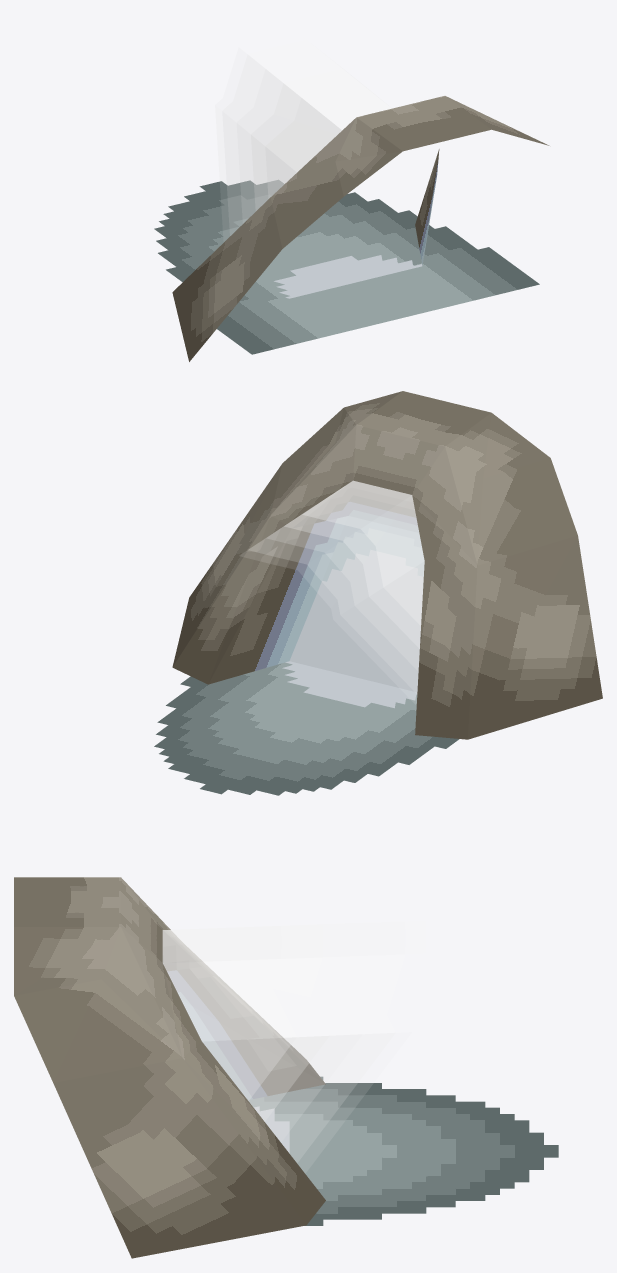
The picture shows the model from 3 angles, top to bottom: view 1: azimuth 30°, elevation 25°; view 2: azimuth 150°, elevation 25°; view 3: azimuth 270°, elevation 25°; orthographic projection. The views are drawn at different scales.
Bounding box in the file's own units: 3.5 × 1.75 × 3.75.
Materials: 3 (3 with a texture image).
